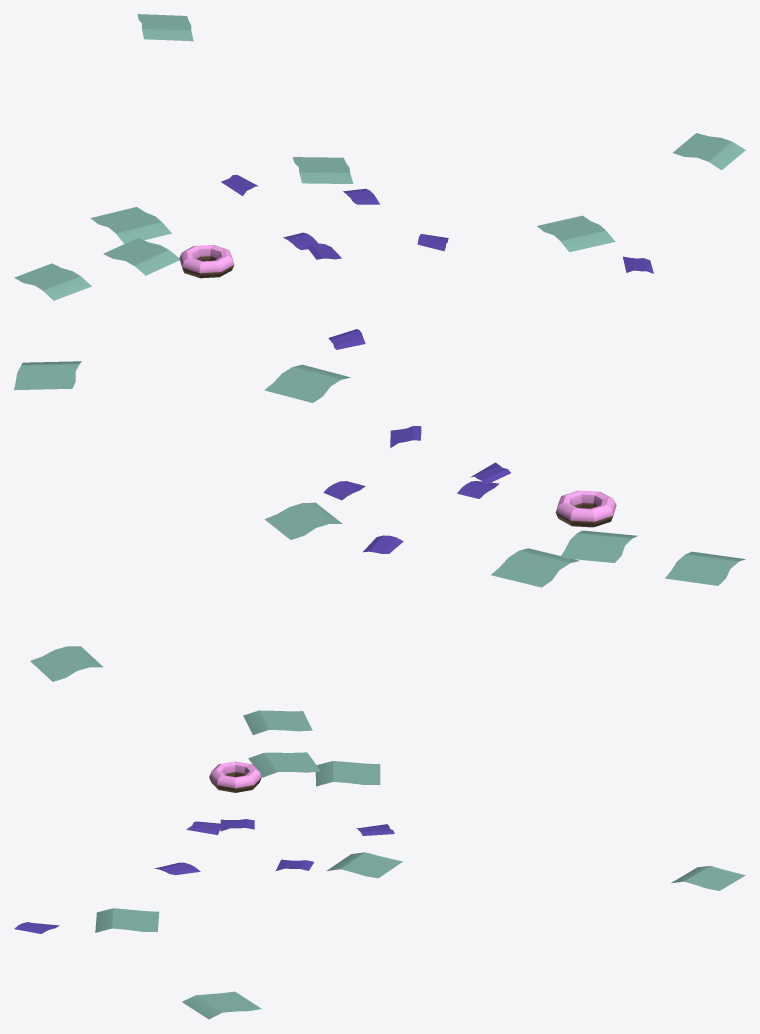
Rendered from TrashPile_Litter_002.fbx.
The picture shows the model from 3 angles, top to bottom: view 1: azimuth 30°, elevation 25°; view 2: azimuth 150°, elevation 25°; view 3: azimuth 270°, elevation 25°; orthographic projection. The views are drawn at different scales.
Visible parts, largest first — view 1: Trash.Paper.002, TrashPaperSmall.002, Trash.Donut; view 2: Trash.Paper.002, TrashPaperSmall.002, Trash.Donut; view 3: Trash.Paper.002, TrashPaperSmall.002, Trash.Donut.
Boxes of the visible parts, x1,y1,x2,y2 form: Trash.Paper.002: (14,14,745,300); TrashPaperSmall.002: (221,174,653,273); Trash.Donut: (179,245,234,278); Trash.Paper.002: (14,361,745,681); TrashPaperSmall.002: (323,329,510,553); Trash.Donut: (555,490,616,527); Trash.Paper.002: (95,710,745,1019); TrashPaperSmall.002: (14,819,394,933); Trash.Donut: (209,761,261,792).
Size of the model in its own units: 275 by 6.25 by 277.
